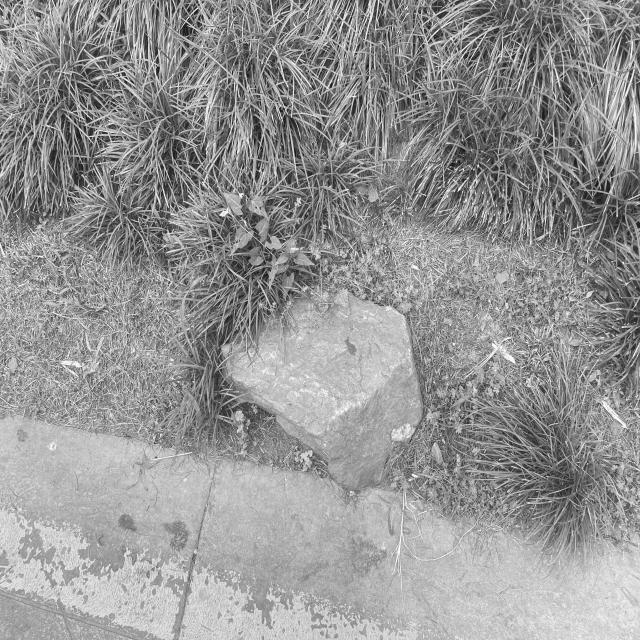Stone: (228, 296, 422, 489)
